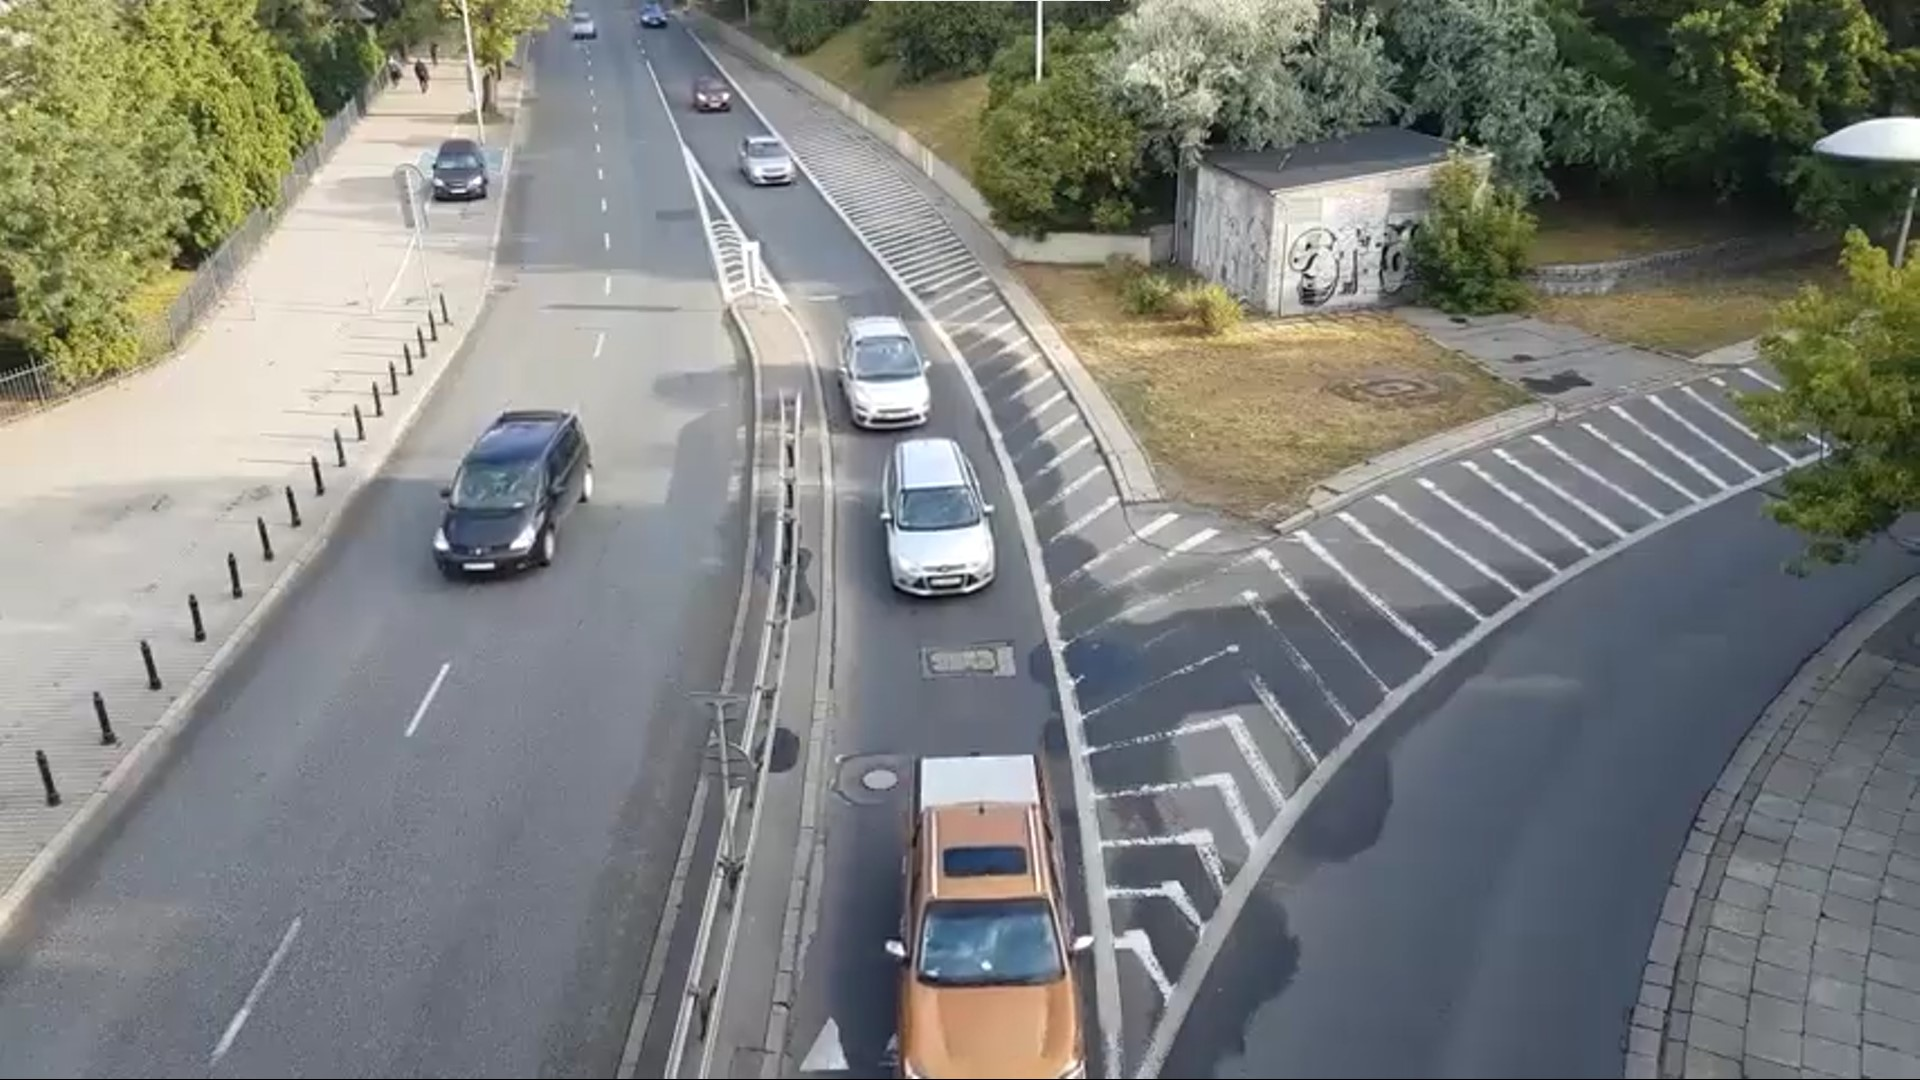mobil: (884, 746, 1097, 1080), (425, 400, 600, 592), (870, 436, 1002, 607), (827, 309, 942, 444), (427, 135, 489, 204), (735, 132, 796, 194), (686, 73, 735, 117)
